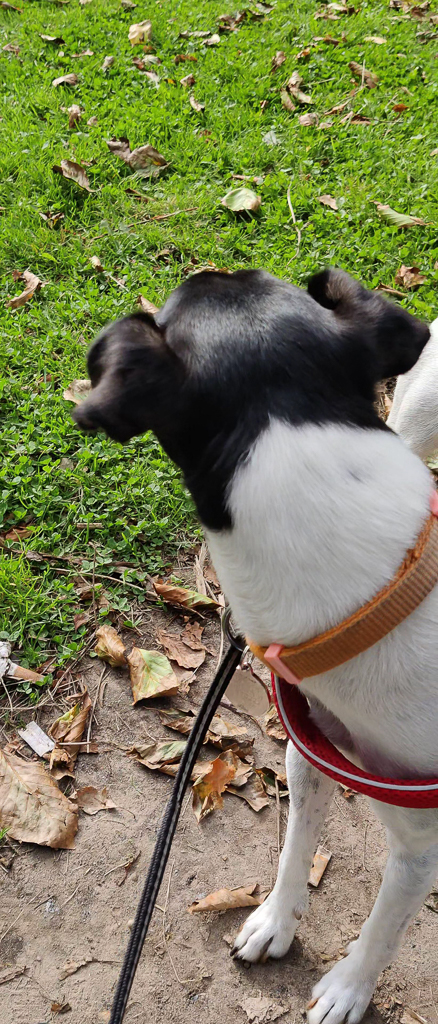Dog: (44, 231, 438, 1024)
